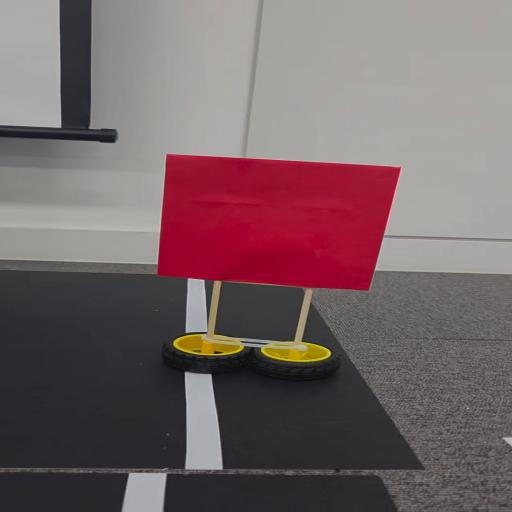Sign_A: (147, 153, 398, 391)
